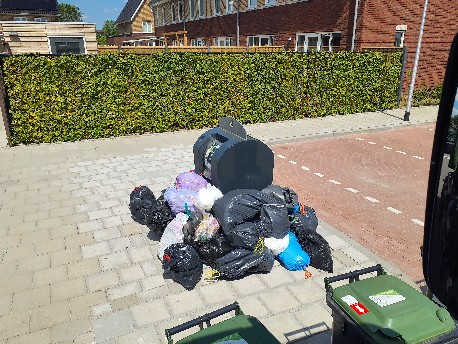Container: (190, 126, 266, 181)
Rest: (194, 216, 254, 270), (275, 197, 327, 256), (158, 212, 198, 284), (255, 211, 304, 268), (223, 191, 287, 223), (141, 201, 187, 238), (172, 175, 218, 211), (129, 188, 165, 223)
